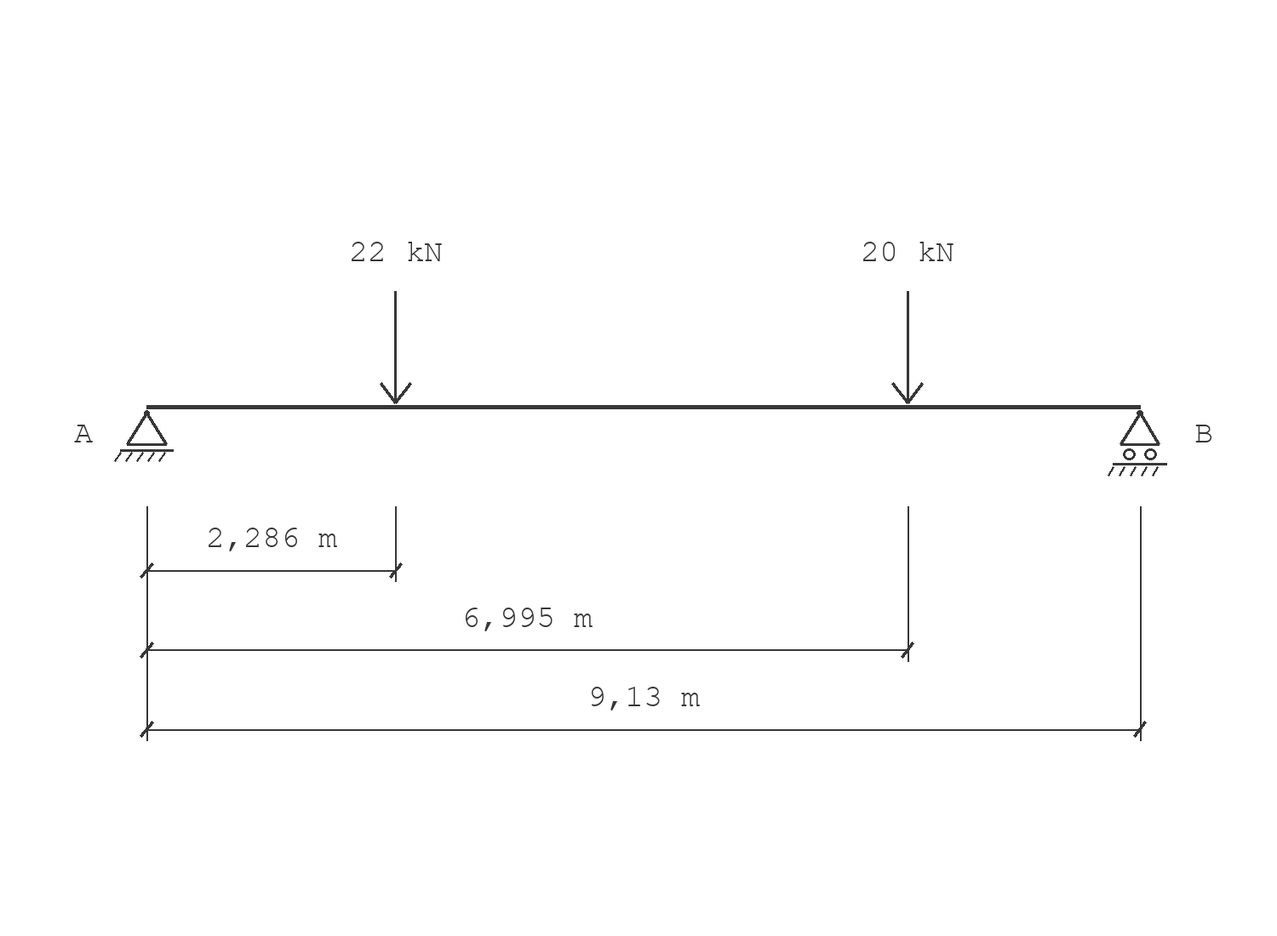pin_support: (114, 410, 174, 462)
point_load: (891, 291, 924, 404), (380, 291, 412, 404)
roller_support: (1108, 410, 1167, 477)
